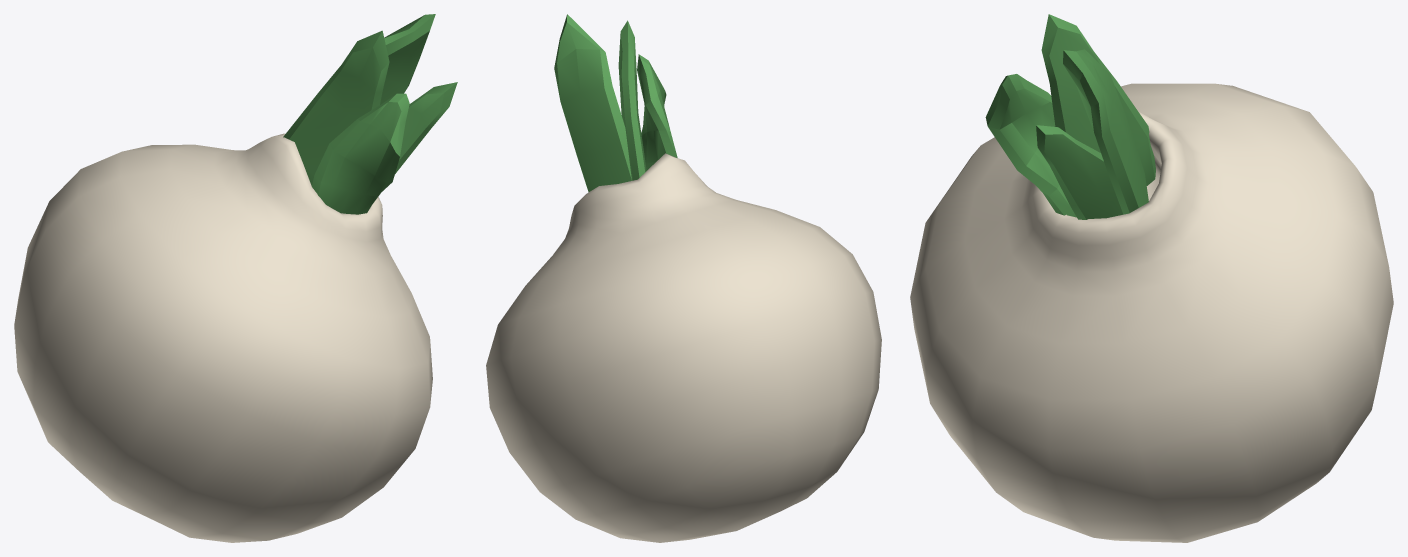
The model's file is onion.gltf.
3 views of the same model, side by side, from view 1: azimuth 30°, elevation 25°; view 2: azimuth 150°, elevation 25°; view 3: azimuth 270°, elevation 25° (orthographic). The views are drawn at different scales.
Parts seen in each view (by area): view 1: oinion, leaves; view 2: oinion, leaves; view 3: oinion, leaves.
Part boxes in pixels (x1=…): oinion: x1=14, y1=133, x2=432, y2=542; leaves: x1=283, y1=14, x2=457, y2=214; oinion: x1=486, y1=153, x2=881, y2=542; leaves: x1=554, y1=14, x2=677, y2=192; oinion: x1=910, y1=83, x2=1393, y2=542; leaves: x1=985, y1=14, x2=1155, y2=219.
Size of the model in its own units: 0.9851 by 1.3 by 1.01.
